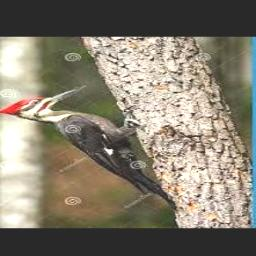Woodpecker: (0, 85, 177, 210)
